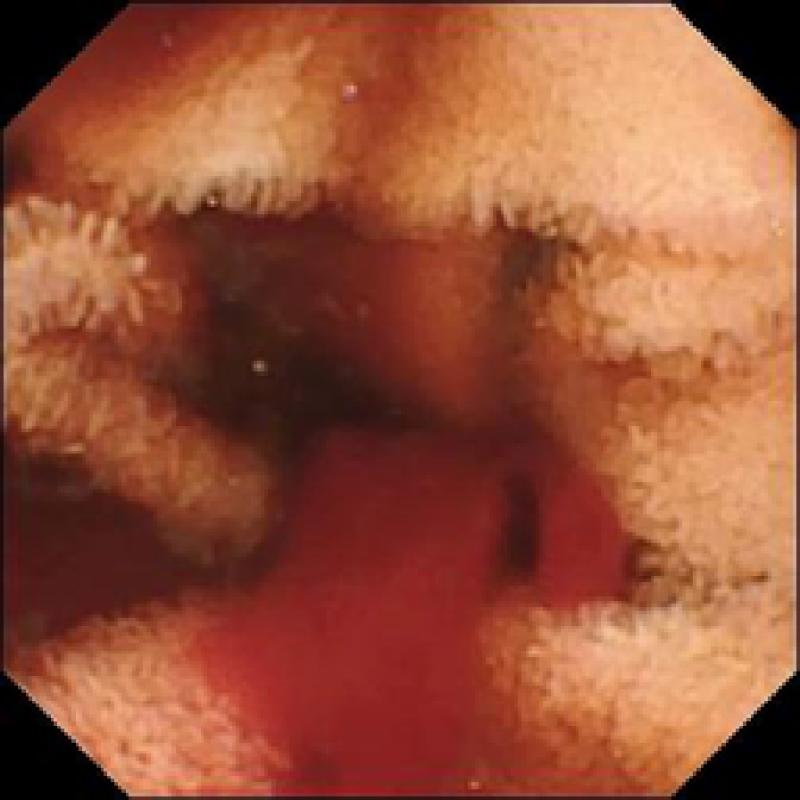bleeding: (182, 396, 611, 800)
